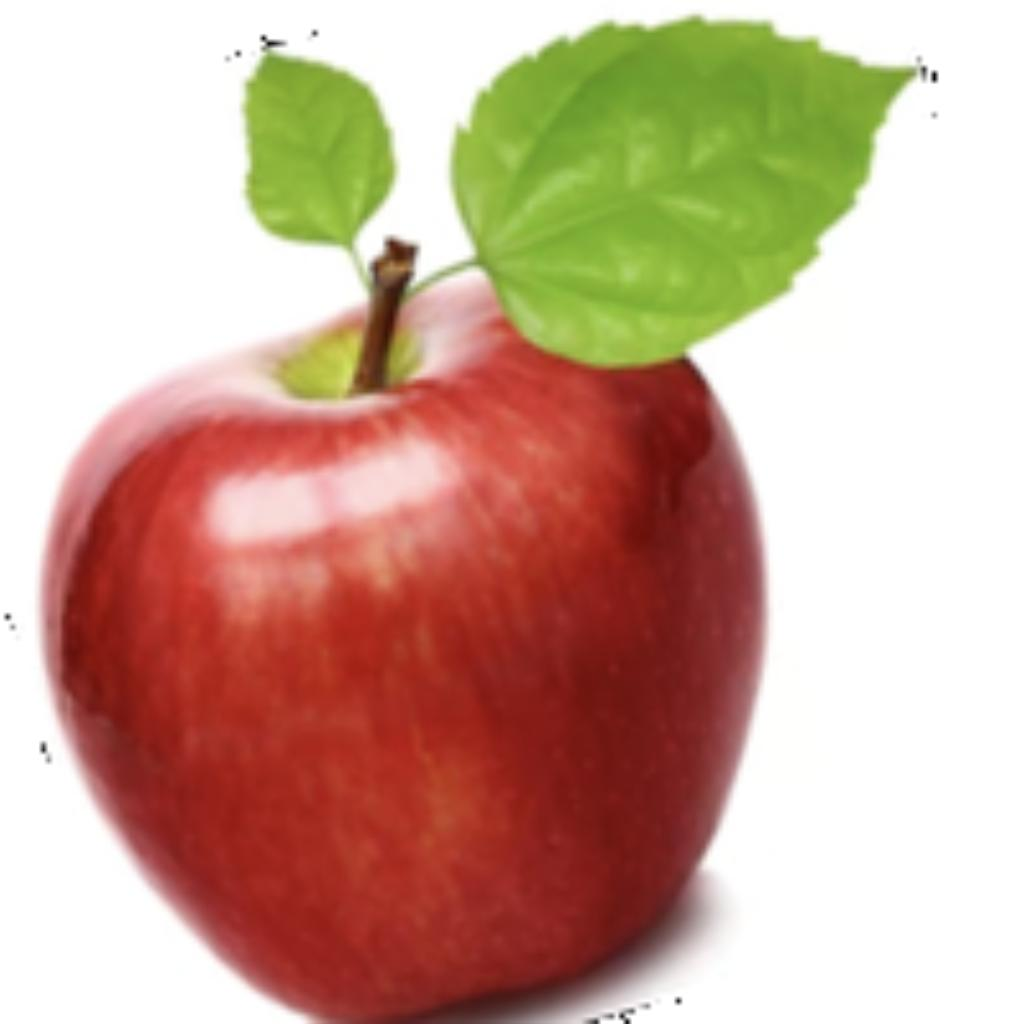apple: (31, 5, 937, 1019)
